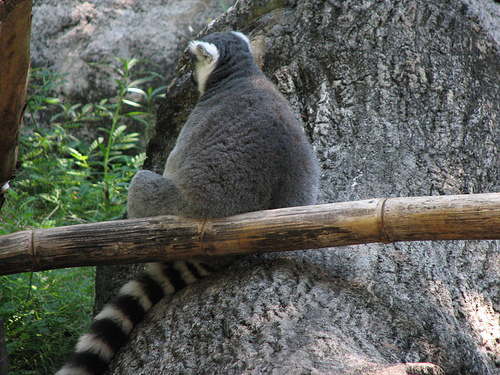cat: (70, 10, 326, 374)
